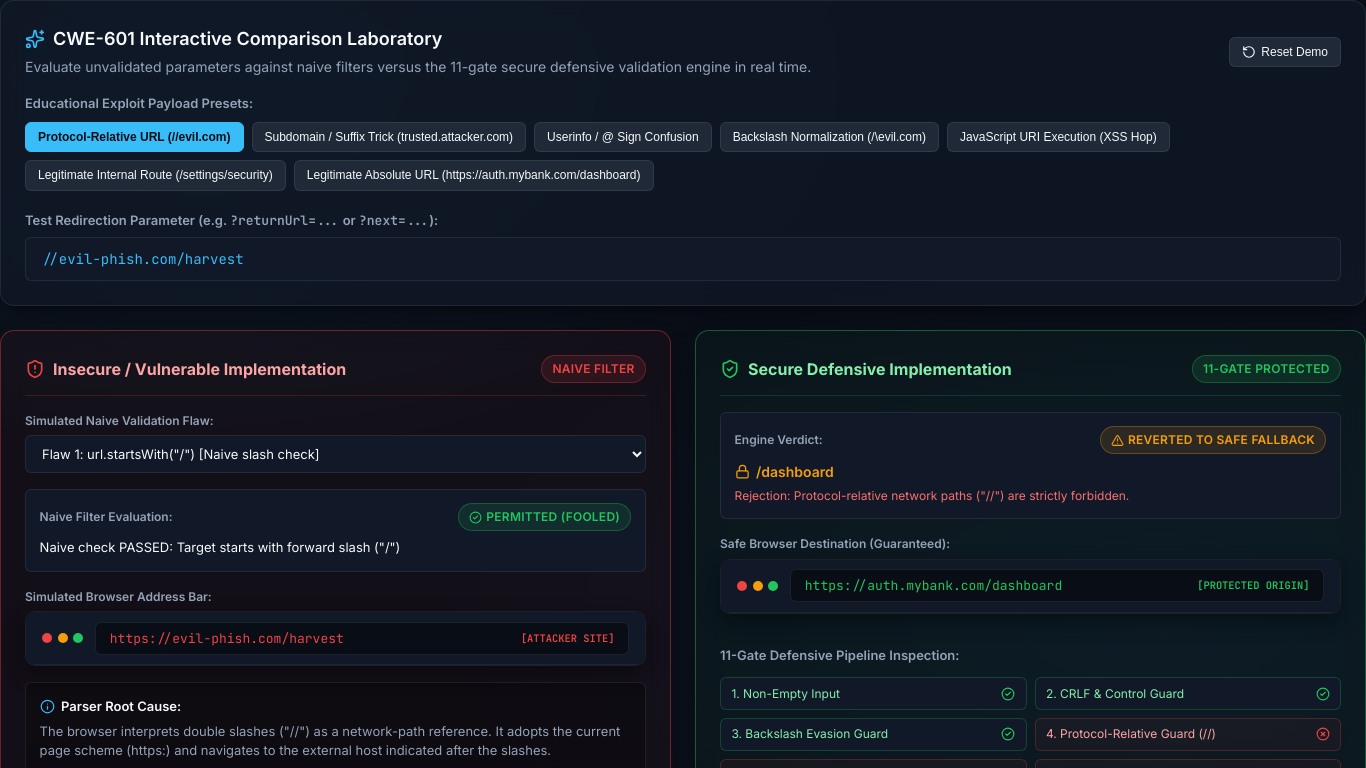
Test: ComparisonDashboard Component Integration Tests › allows typing custom relative path and verifies secure acceptance
Step 1. Replace the text in the field labelled "Test Redirection Parameter" with "/profile" → [683, 258], box [25,236,1341,280]
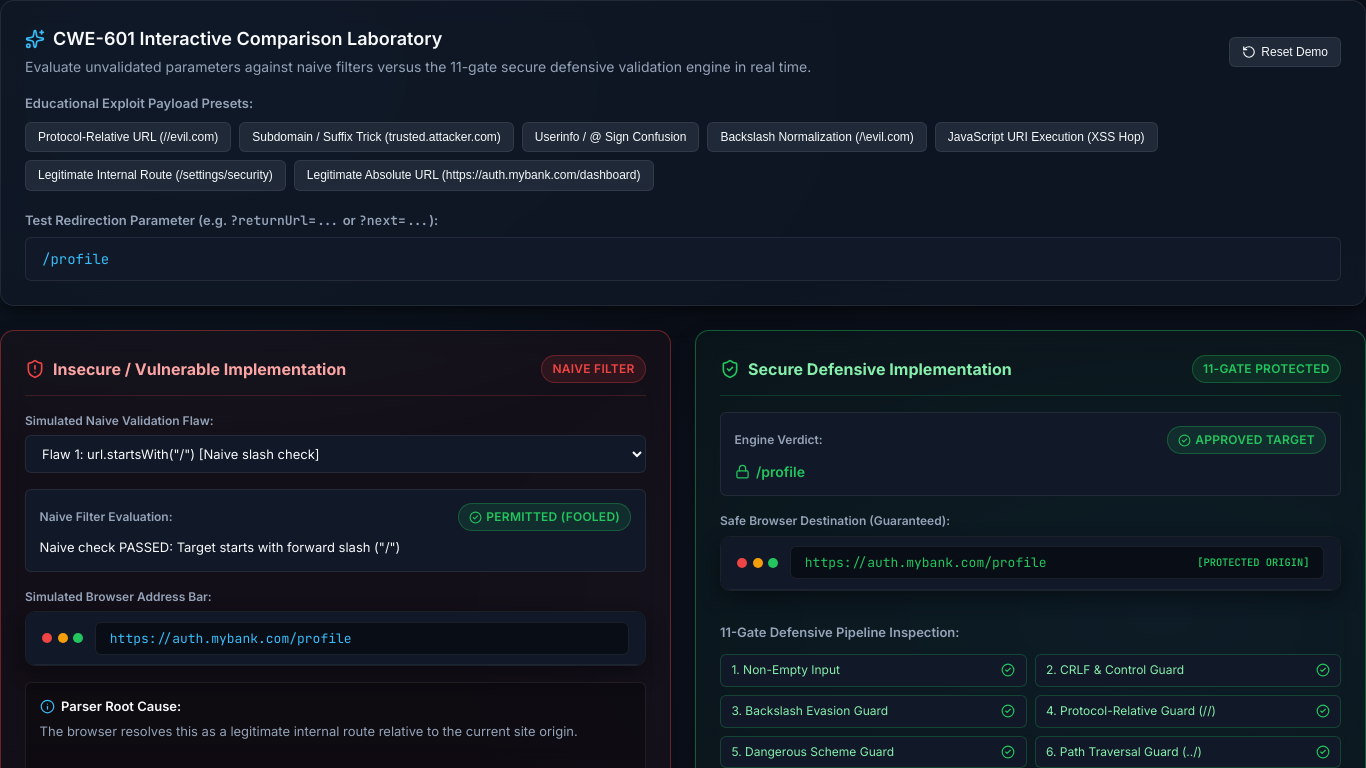
Result: the text "APPROVED TARGET" is shown at [1167,426,1326,454]
Result: the text "/profile" is shown at [756,460,805,482]
